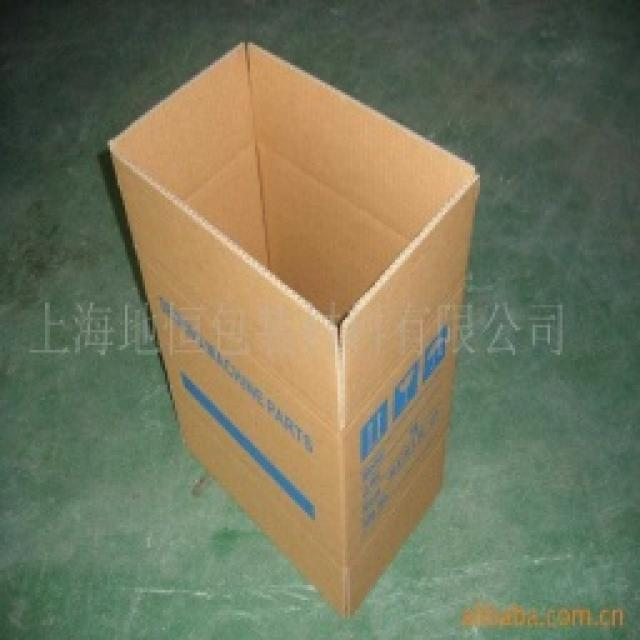box: (78, 48, 486, 611)
